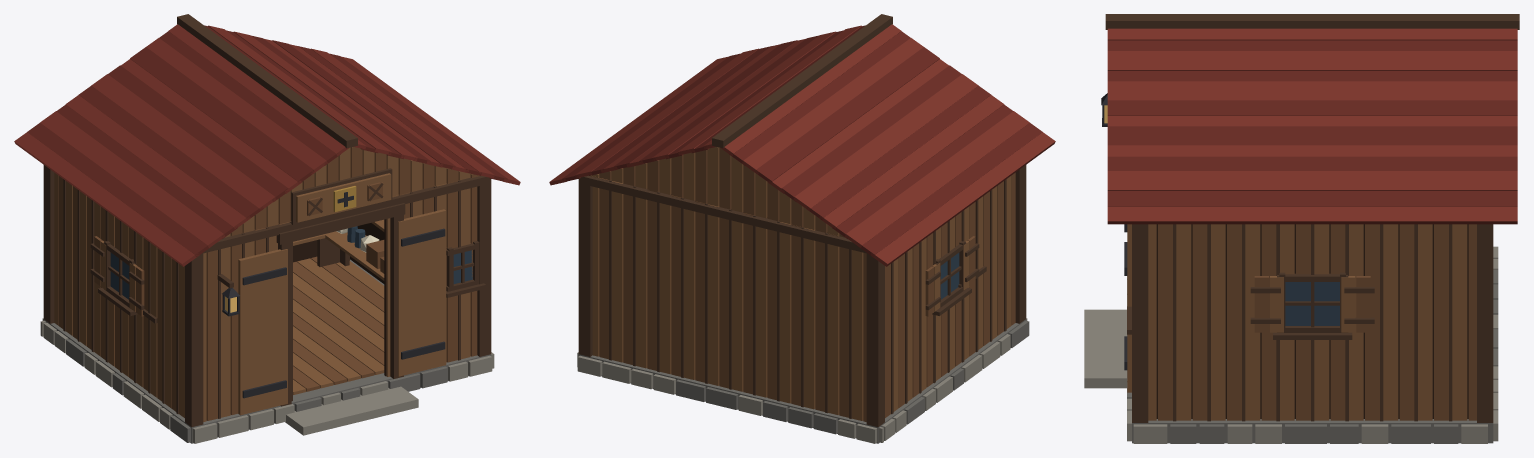
The model's file is Vault.obj.
3 views of the same model, side by side, from view 1: azimuth 30°, elevation 25°; view 2: azimuth 150°, elevation 25°; view 3: azimuth 270°, elevation 25° (orthographic). The views are drawn at different scales.
Visible parts, largest first — view 1: Vault; view 2: Vault; view 3: Vault.
Boxes of the visible parts, x1=… form: Vault: x1=14, y1=14, x2=520, y2=443; Vault: x1=549, y1=14, x2=1055, y2=443; Vault: x1=1084, y1=14, x2=1519, y2=443.
Size of the model in its own units: 4.7 by 3.66 by 4.29.
